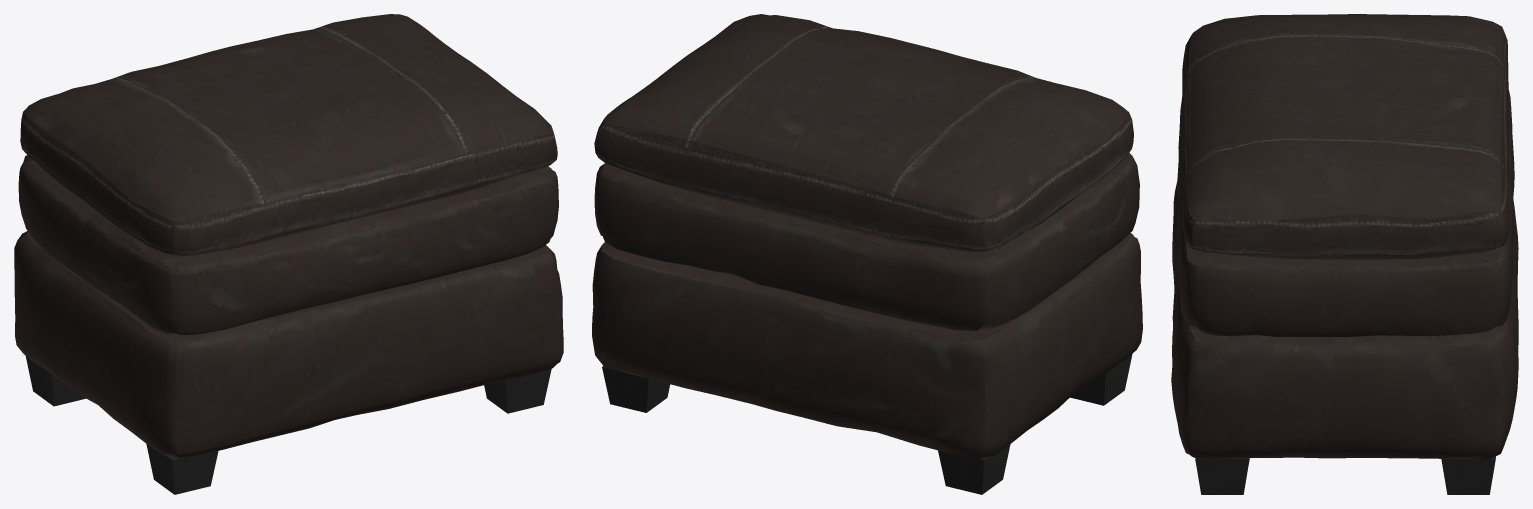
The model's file is Ottoman_01.glb.
3 views of the same model, side by side, from view 1: azimuth 30°, elevation 25°; view 2: azimuth 150°, elevation 25°; view 3: azimuth 270°, elevation 25° (orthographic).
Parts seen in each view (by area): view 1: Ottoman_01; view 2: Ottoman_01; view 3: Ottoman_01.
Boxes of the visible parts, left/top/right/bottom form: Ottoman_01: left=14, top=14, right=563, bottom=494; Ottoman_01: left=592, top=14, right=1142, bottom=494; Ottoman_01: left=1171, top=14, right=1518, bottom=494.
Bounding box in the file's own units: 0.8846 × 0.6243 × 0.6211.
1 material, 1 textured.
